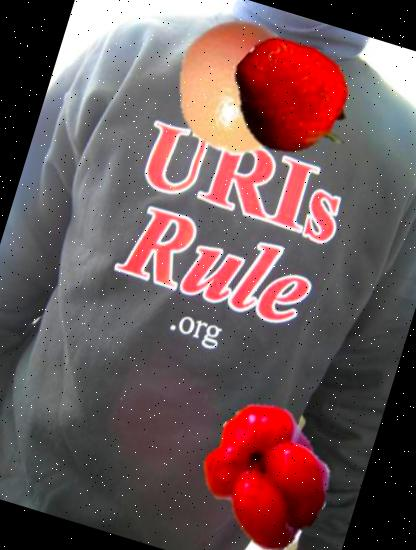Grapefruit: (154, 3, 324, 173)
Pepper: (185, 392, 349, 550)
Strawberry: (211, 17, 378, 183)
